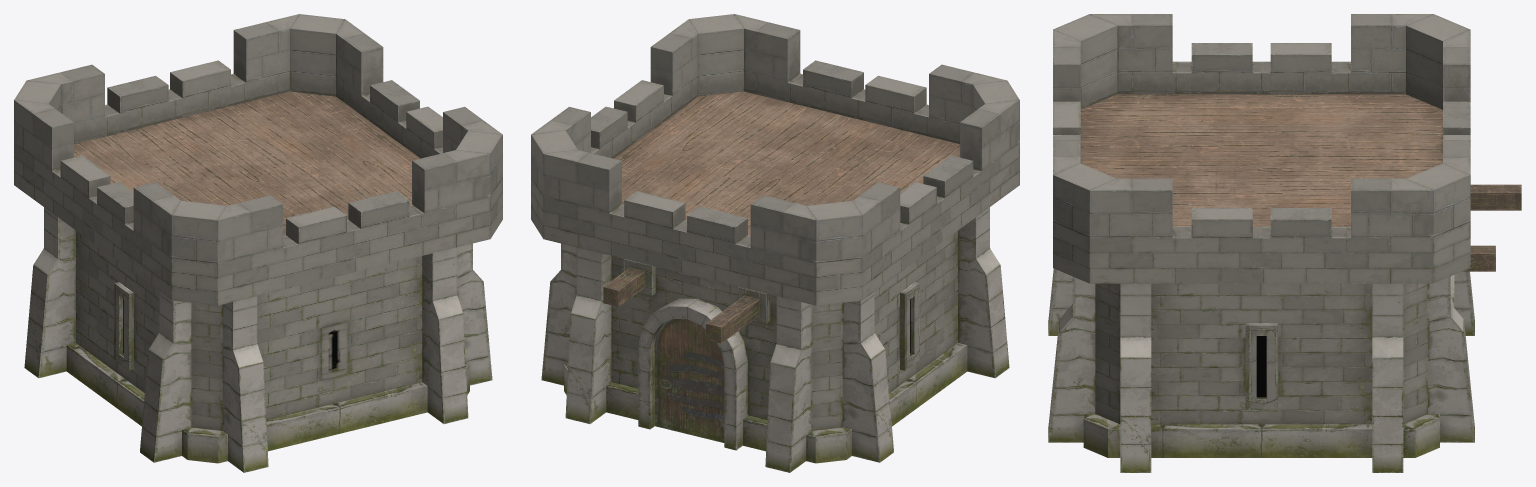
File: FortBBody1.fbx
The picture shows the model from 3 angles, left to right: view 1: azimuth 30°, elevation 25°; view 2: azimuth 150°, elevation 25°; view 3: azimuth 270°, elevation 25°; orthographic projection. The views are drawn at different scales.
Parts seen in each view (by area): view 1: FortBTop1, FortBBody1; view 2: FortBTop1, FortBBody1; view 3: FortBTop1, FortBBody1.
Boxes of the visible parts, x1=… form: FortBTop1: x1=14, y1=14, x2=502, y2=305; FortBBody1: x1=24, y1=207, x2=492, y2=472; FortBTop1: x1=531, y1=14, x2=1019, y2=305; FortBBody1: x1=541, y1=207, x2=1009, y2=472; FortBTop1: x1=1053, y1=14, x2=1470, y2=283; FortBBody1: x1=1048, y1=184, x2=1521, y2=472.
Bounding box in the file's own units: 486 × 353 × 540.
2 materials, 2 textured.
